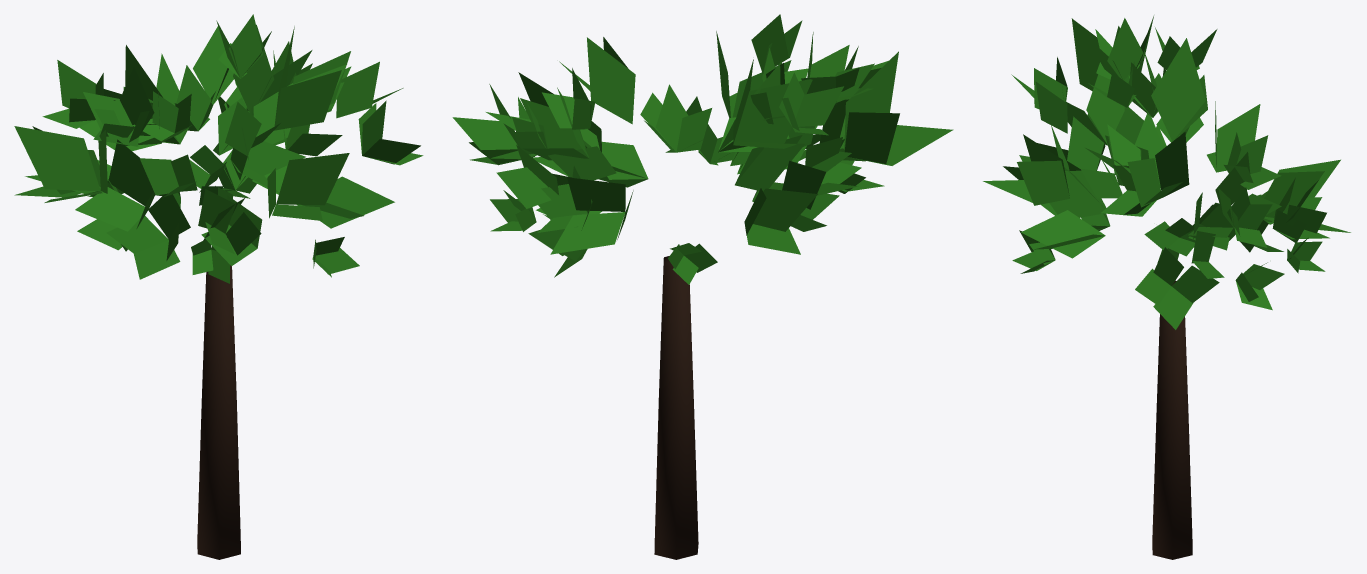
Rendered from Tree_10_C_LOD2.obj.
3 views of the same model, side by side, from view 1: azimuth 30°, elevation 25°; view 2: azimuth 150°, elevation 25°; view 3: azimuth 270°, elevation 25° (orthographic). The views are drawn at different scales.
Parts seen in each view (by area): view 1: Leaves, Trunk; view 2: Leaves, Trunk; view 3: Leaves, Trunk.
Boxes of the visible parts, x1,y1,x2,y2 form: Leaves: (14,14,423,283); Trunk: (197,265,240,559); Leaves: (452,14,953,284); Trunk: (654,256,698,559); Leaves: (983,16,1350,329); Trunk: (1152,280,1192,559).
Size of the model in its own units: 8.91 by 10.4 by 7.22.
